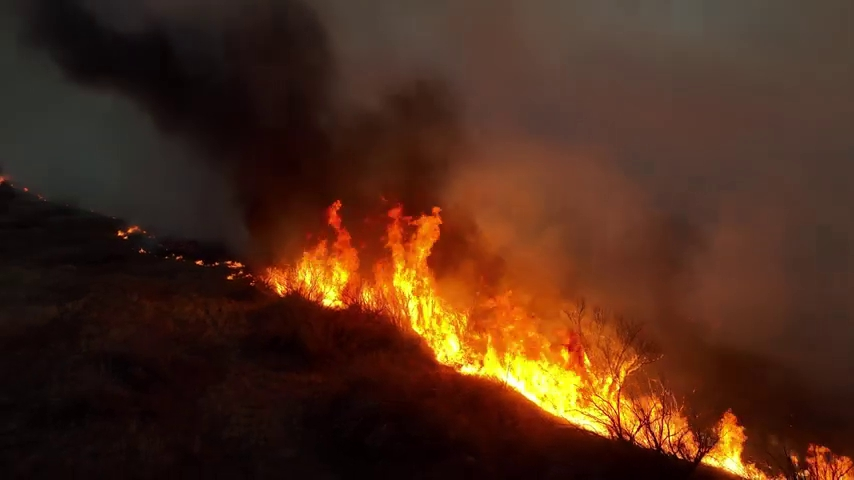forest_fire: (259, 201, 783, 479), (785, 444, 853, 479), (117, 226, 144, 238)
